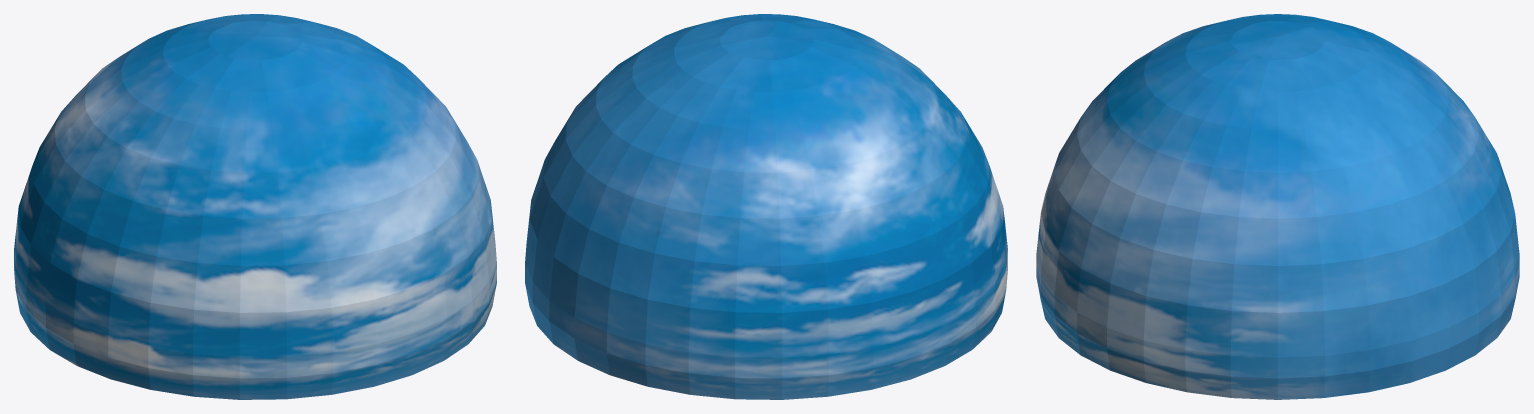
Rendered from Lieu, Eva - skyDome.glb.
3 renders of one model, left to right at view 1: azimuth 30°, elevation 25°; view 2: azimuth 150°, elevation 25°; view 3: azimuth 270°, elevation 25°, orthographic.
Parts seen in each view (by area): view 1: Sphere; view 2: Sphere; view 3: Sphere.
Boxes of the visible parts, left/top/right/bottom form: Sphere: left=14, top=14, right=496, bottom=399; Sphere: left=525, top=14, right=1007, bottom=399; Sphere: left=1036, top=14, right=1519, bottom=399.
Size of the model in its own units: 200 by 120 by 200.
Materials: 1 (1 with a texture image).
